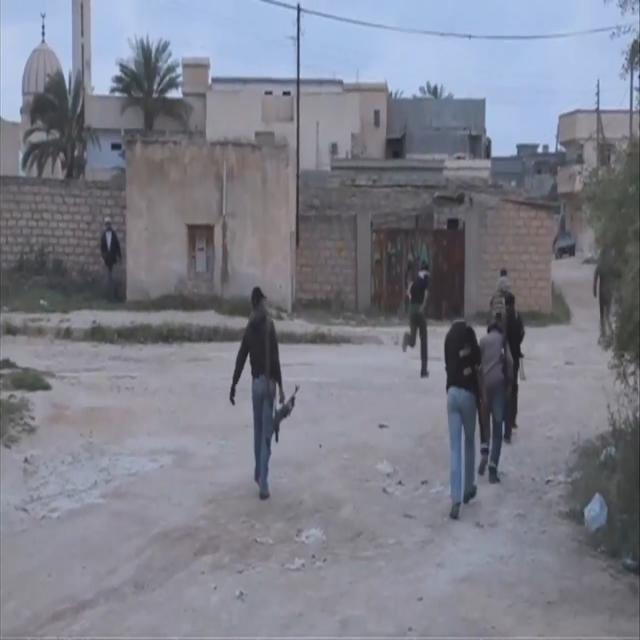long weapon: (264, 370, 312, 453)
